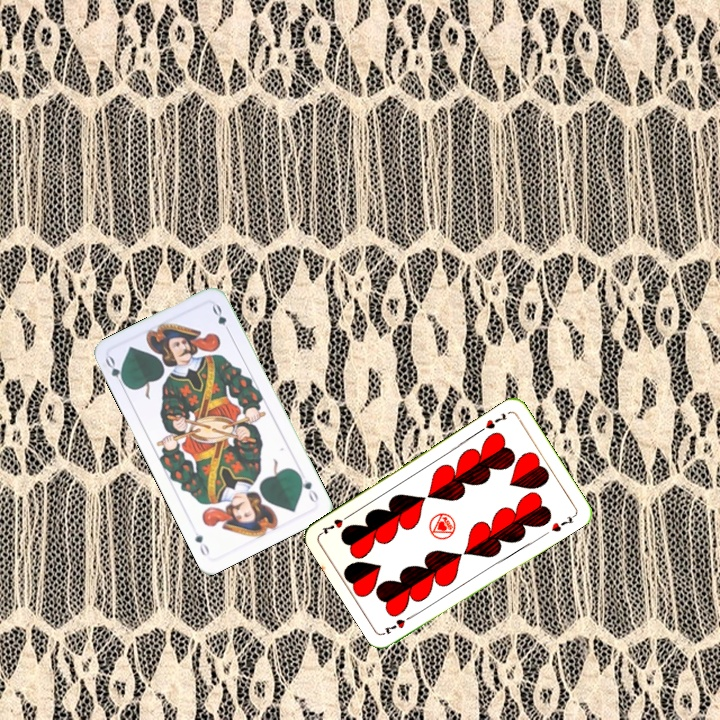GO: (101, 352, 130, 391), (294, 469, 321, 506)
H7: (380, 610, 417, 637), (475, 409, 509, 435)
